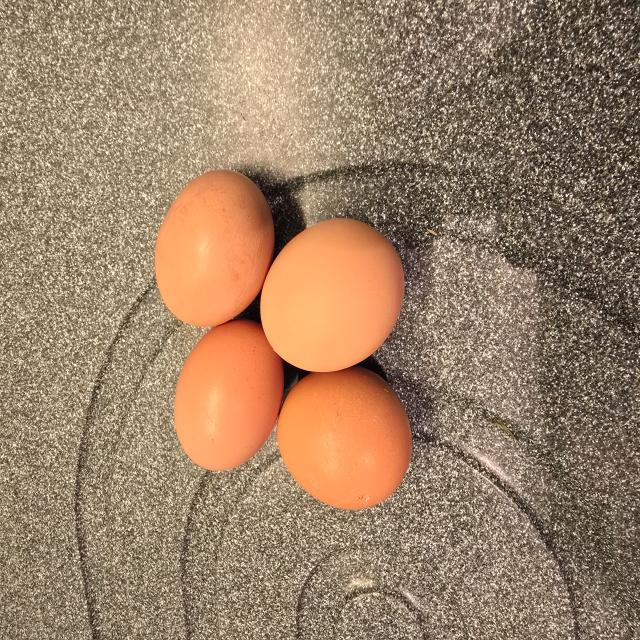Egg: (260, 218, 404, 372), (277, 367, 412, 509), (155, 170, 274, 326), (174, 320, 284, 470)
